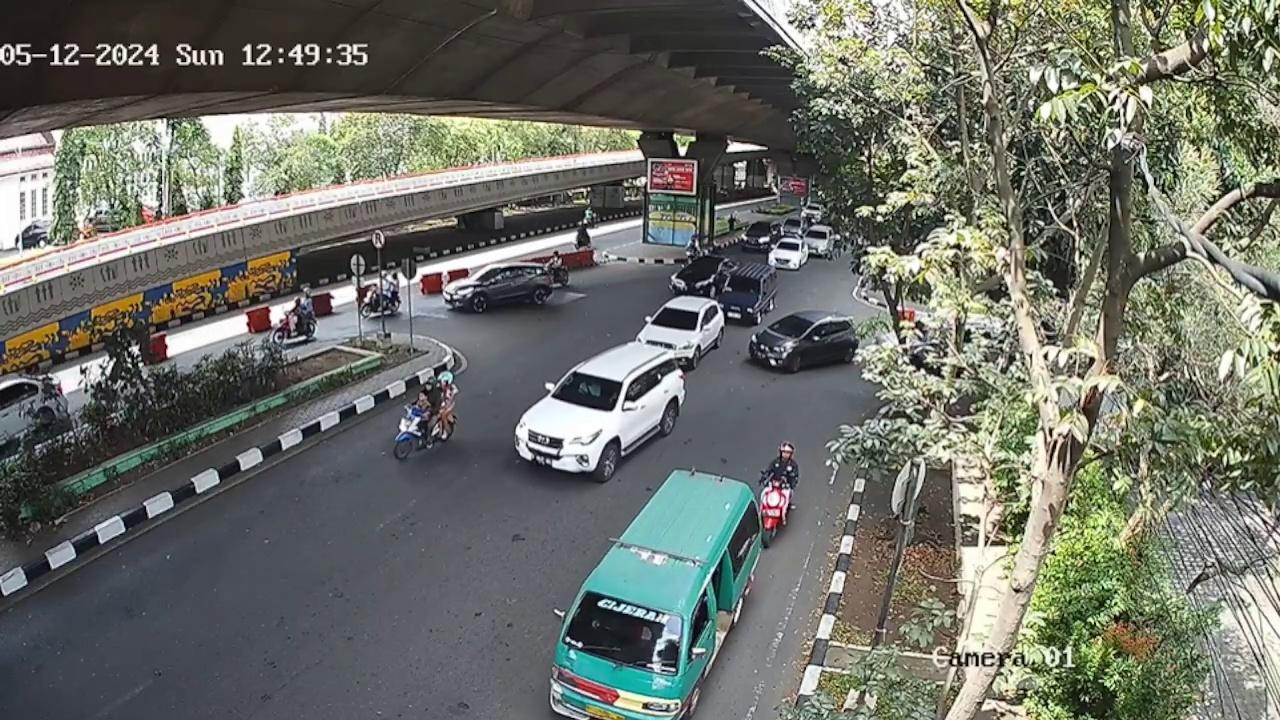pakai: (576, 377, 600, 400)
windshield: (569, 594, 685, 672), (549, 370, 625, 411)
